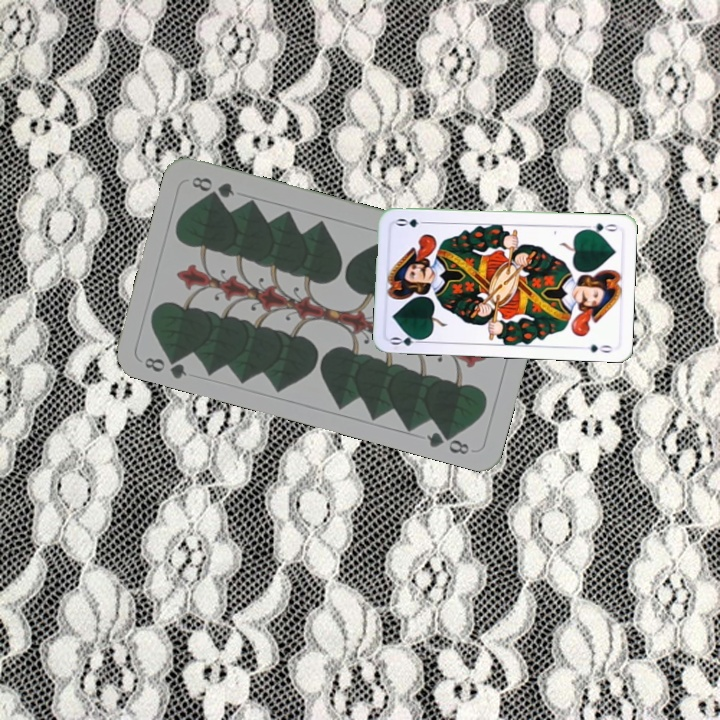G8: (140, 350, 190, 382)
GO: (387, 330, 428, 348), (580, 219, 620, 236)
